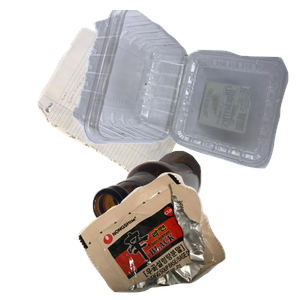glass: (90, 148, 300, 300)
paper: (35, 25, 232, 204)
plastic: (70, 10, 300, 171)
trash: (76, 170, 300, 300)
